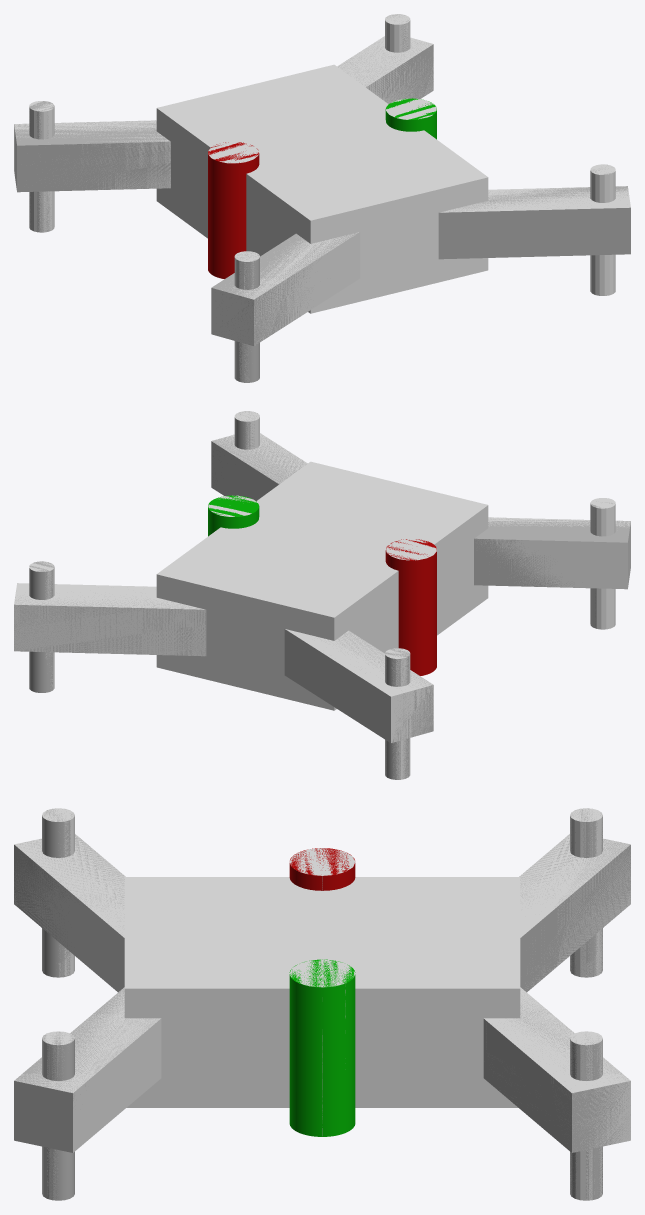
The model's file is dev_prototype.glb.
The picture shows the model from 3 angles, top to bottom: view 1: azimuth 30°, elevation 25°; view 2: azimuth 150°, elevation 25°; view 3: azimuth 270°, elevation 25°; orthographic projection. The views are drawn at different scales.
Visible parts, largest first — view 1: Body-colbox, Body, Arm4-colbox, Arm1-colbox, Arm2-colbox, Arm3-colbox, Foot3-colcylinder, Foot1-colcylinder, Foot4-colcylinder, Foot2-colcylinder, LeftSide-colcylinder, RightSide-colcylinder; view 2: Body-colbox, Body, Arm2-colbox, Arm1-colbox, Arm4-colbox, Arm3-colbox, Foot4-colcylinder, Foot1-colcylinder, LeftSide-colcylinder, Foot3-colcylinder, Foot2-colcylinder; view 3: Body-colbox, Body, Arm4-colbox, Arm3-colbox, Arm1-colbox, Arm2-colbox, Foot2-colcylinder, Foot1-colcylinder, Foot3-colcylinder, RightSide-colcylinder, LeftSide-colcylinder, Foot4-colcylinder.
Part boxes in pixels (left/top/right/bottom): Body-colbox: left=156, top=64, right=488, bottom=313; Body: left=14, top=14, right=630, bottom=382; Arm4-colbox: left=211, top=232, right=360, bottom=345; Arm1-colbox: left=14, top=120, right=170, bottom=190; Arm2-colbox: left=337, top=36, right=433, bottom=103; Arm3-colbox: left=440, top=187, right=630, bottom=212; Foot3-colcylinder: left=590, top=164, right=615, bottom=295; Foot1-colcylinder: left=29, top=101, right=54, bottom=232; Foot4-colcylinder: left=234, top=251, right=259, bottom=382; Foot2-colcylinder: left=385, top=14, right=410, bottom=52; LeftSide-colcylinder: left=208, top=142, right=258, bottom=163; RightSide-colcylinder: left=386, top=98, right=436, bottom=119; Body-colbox: left=156, top=461, right=488, bottom=710; Body: left=14, top=411, right=630, bottom=779; Arm2-colbox: left=14, top=583, right=206, bottom=656; Arm1-colbox: left=284, top=629, right=433, bottom=742; Arm4-colbox: left=475, top=517, right=630, bottom=589; Arm3-colbox: left=211, top=433, right=307, bottom=500; Foot4-colcylinder: left=590, top=498, right=615, bottom=629; Foot1-colcylinder: left=385, top=648, right=410, bottom=779; LeftSide-colcylinder: left=386, top=539, right=436, bottom=560; Foot3-colcylinder: left=234, top=411, right=259, bottom=449; Foot2-colcylinder: left=29, top=561, right=54, bottom=690; Body-colbox: left=124, top=877, right=520, bottom=1107; Body: left=14, top=808, right=630, bottom=1200; Arm4-colbox: left=14, top=834, right=125, bottom=992; Arm3-colbox: left=15, top=987, right=161, bottom=1152; Arm1-colbox: left=519, top=834, right=630, bottom=989; Arm2-colbox: left=484, top=987, right=630, bottom=1151; Foot2-colcylinder: left=570, top=1031, right=602, bottom=1200; Foot1-colcylinder: left=570, top=808, right=602, bottom=977; Foot3-colcylinder: left=42, top=1031, right=74, bottom=1200; RightSide-colcylinder: left=289, top=959, right=355, bottom=1135; LeftSide-colcylinder: left=289, top=848, right=355, bottom=890; Foot4-colcylinder: left=42, top=808, right=74, bottom=977.
Size of the model in its own units: 0.9368 by 0.275 by 0.9349.
